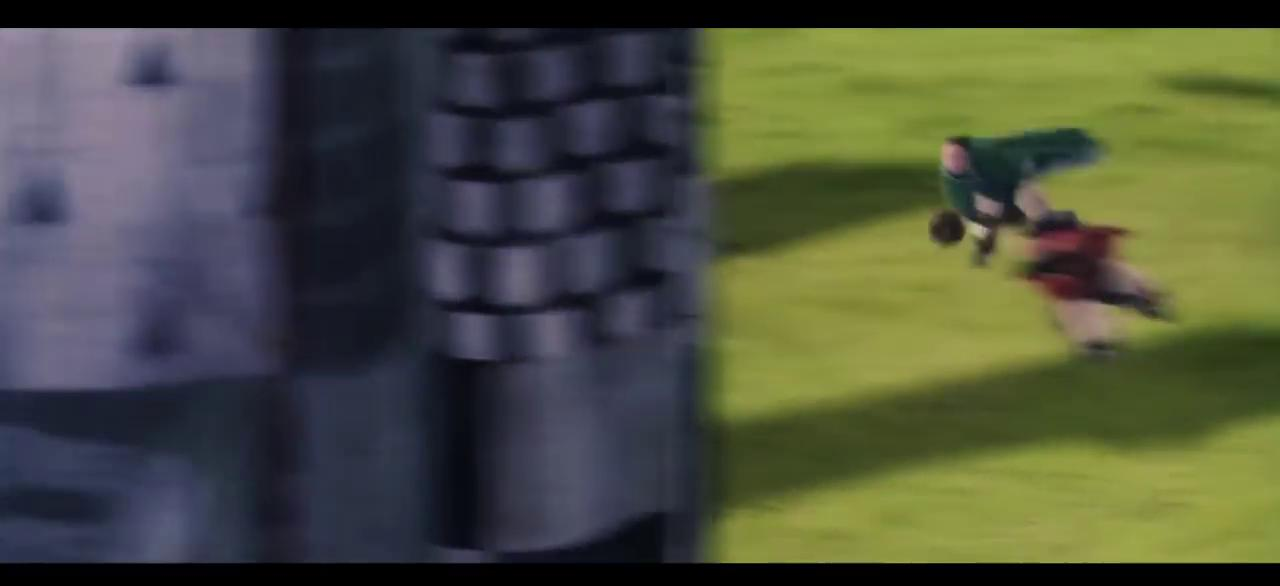quaffle: (929, 211, 965, 247)
